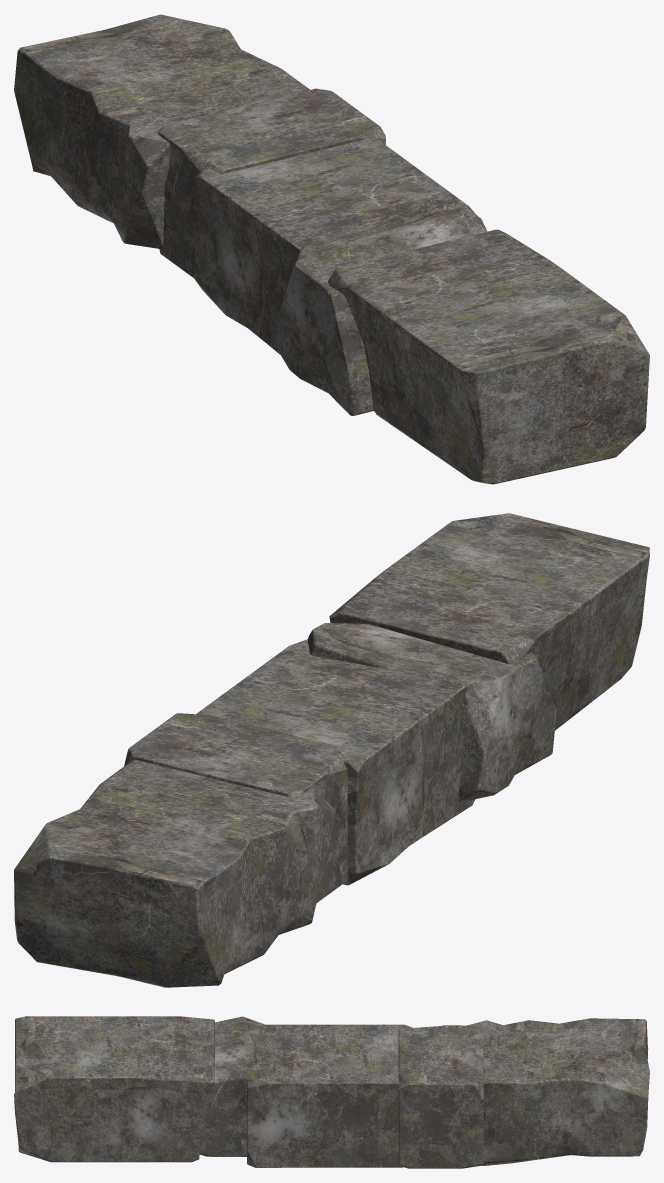
Rendered from SM_CastleTower_Floor_Seam_B_01.fbx.
3 renders of one model, top to bottom at view 1: azimuth 30°, elevation 25°; view 2: azimuth 150°, elevation 25°; view 3: azimuth 270°, elevation 25°, orthographic. The views are drawn at different scales.
Visible parts, largest first — view 1: SM_CastleTower_Floor_Seam_B_01_LOD0; view 2: SM_CastleTower_Floor_Seam_B_01_LOD0; view 3: SM_CastleTower_Floor_Seam_B_01_LOD0.
Part boxes in pixels (x1,y1,x2,y2): SM_CastleTower_Floor_Seam_B_01_LOD0: (14, 14, 649, 484); SM_CastleTower_Floor_Seam_B_01_LOD0: (14, 513, 649, 987); SM_CastleTower_Floor_Seam_B_01_LOD0: (14, 1016, 649, 1168).
Bounding box in the file's own units: 107 × 412 × 67.19.
